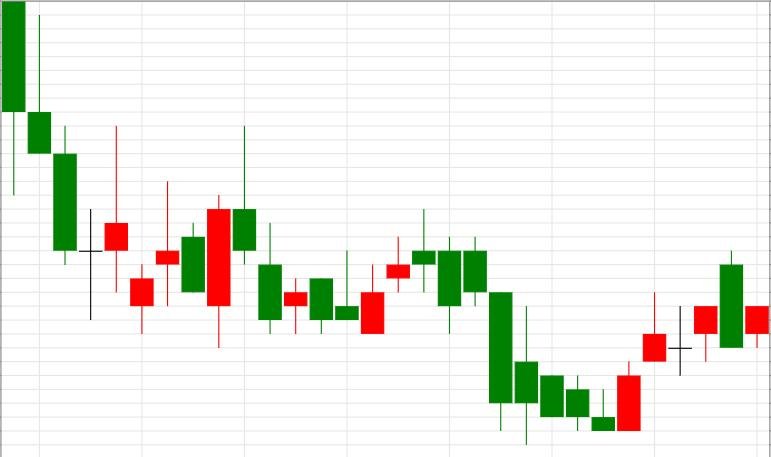bullish_engulfing_rise: (437, 236, 641, 446)
morning_star_rise: (2, 2, 128, 320)
